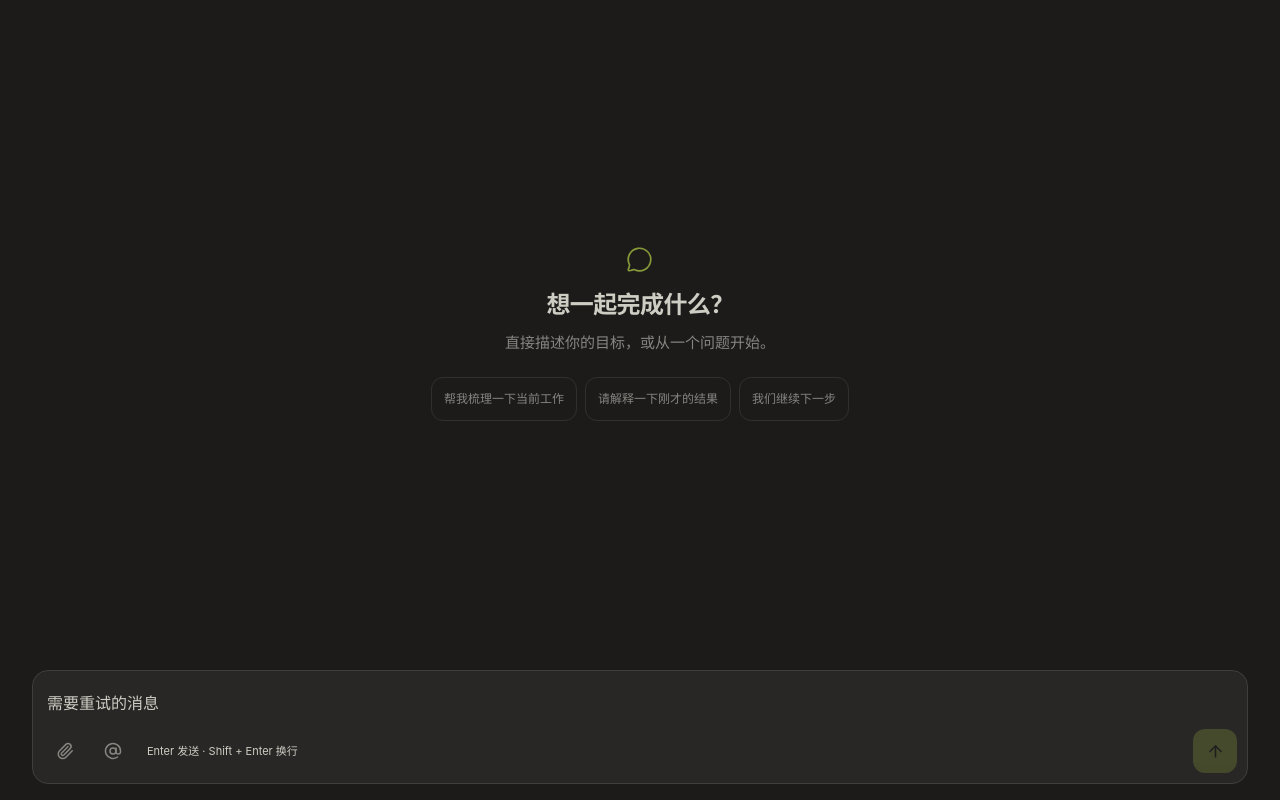
it: keeps a failed send actionable when background history refresh succeeds
Clear the field: (103,703) left=47, top=693, right=159, bottom=713
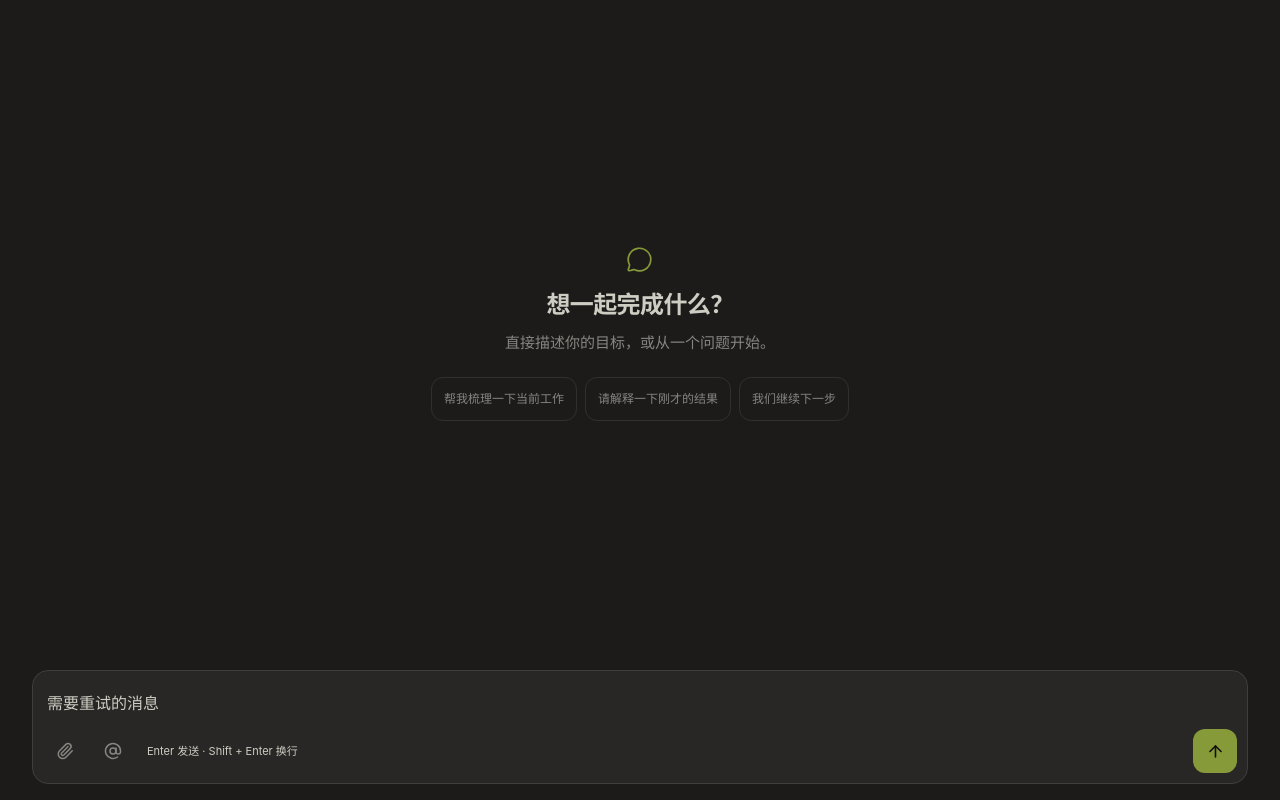
Click the button named "发送消息": (1215,751) left=1193, top=729, right=1237, bottom=773
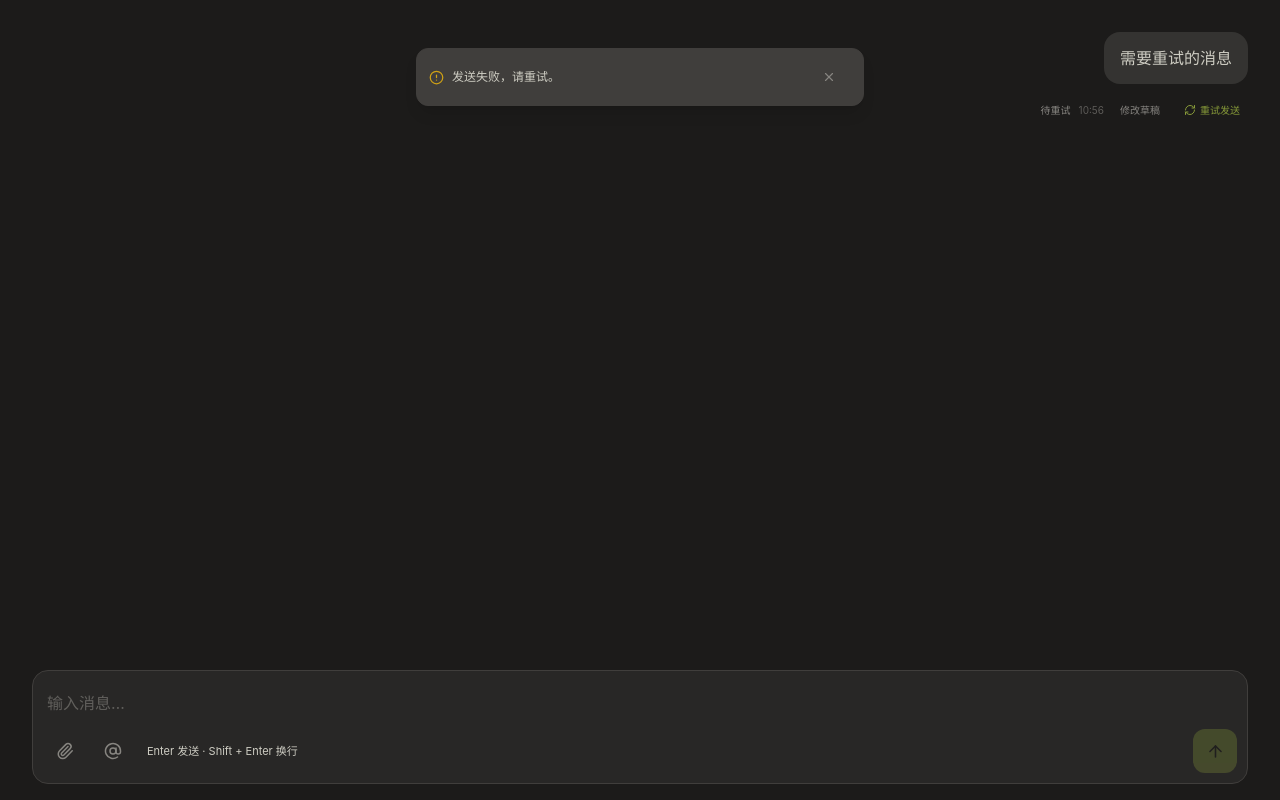
Expected: the text "需要重试的消息" is shown, left=1120, top=44, right=1232, bottom=72
Expected: the message shows "发送失败", left=452, top=69, right=560, bottom=84
Expected: the button "重试发送" is shown, left=1176, top=92, right=1248, bottom=128
